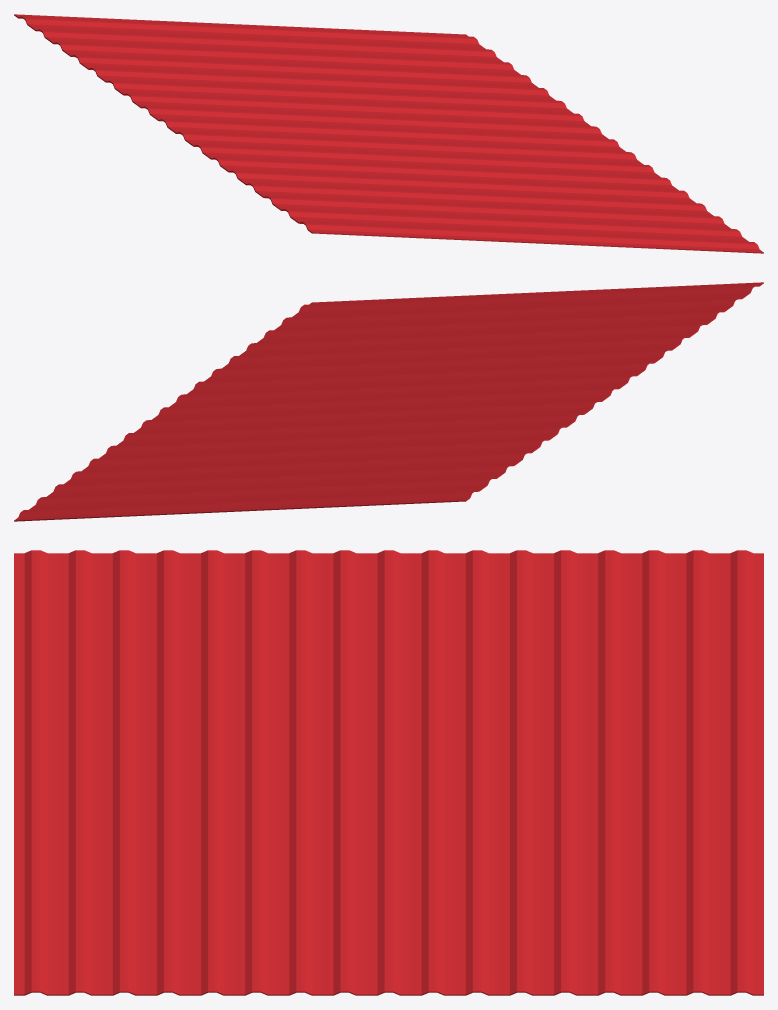
The model's file is profnastilp20_1.glb.
3 views of the same model, one above another, from view 1: azimuth 30°, elevation 25°; view 2: azimuth 150°, elevation 25°; view 3: azimuth 270°, elevation 25° (orthographic). The views are drawn at different scales.
Visible parts, largest first — view 1: PROFNASTIL P20 EV1; view 2: PROFNASTIL P20 EV1; view 3: PROFNASTIL P20 EV1.
Part boxes in pixels (bbox=[...]): PROFNASTIL P20 EV1: bbox=[14, 14, 763, 253]; PROFNASTIL P20 EV1: bbox=[14, 282, 763, 521]; PROFNASTIL P20 EV1: bbox=[14, 550, 763, 995].
Bounding box in the file's own units: 13.68 × 3.87 × 15.59.
